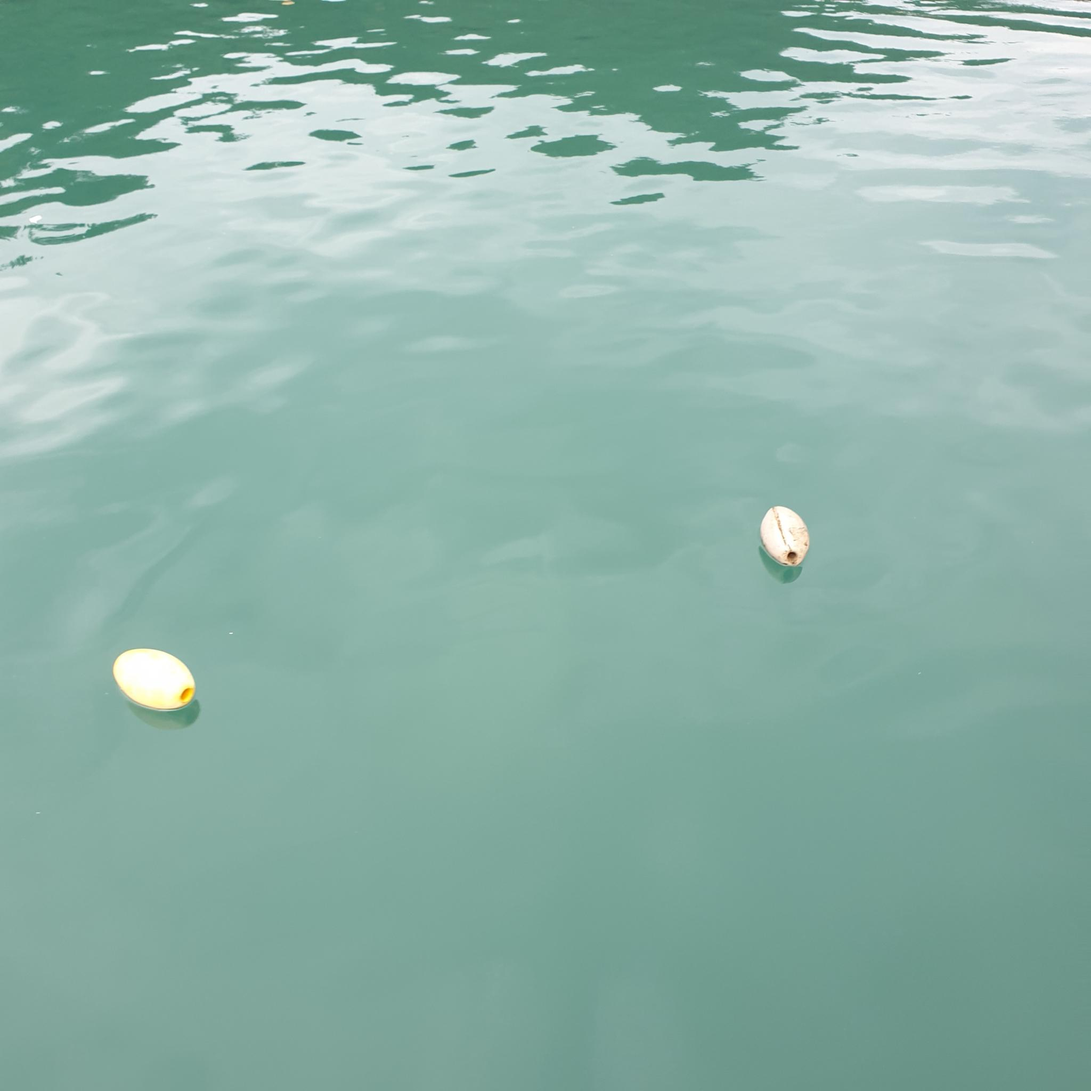sampah_terapung: (112, 648, 196, 711), (761, 506, 810, 567)
